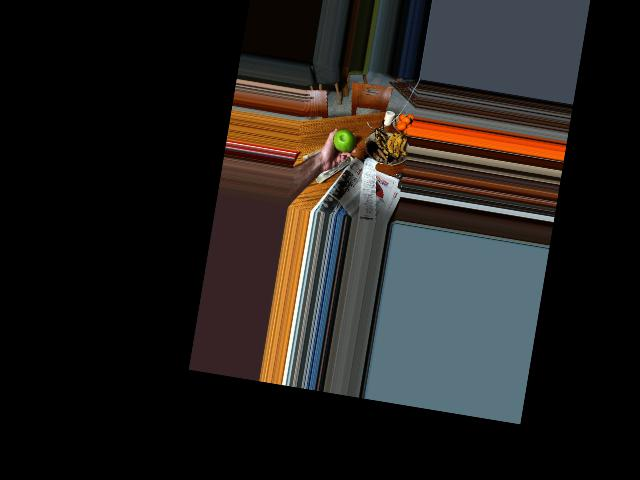apple: (330, 124, 358, 155)
